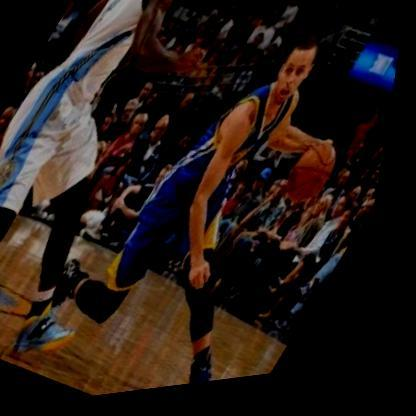basketball: (279, 141, 357, 223)
